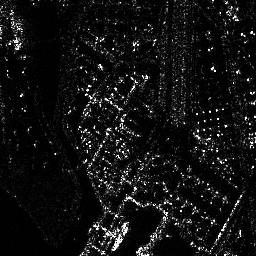ship: (111, 220, 131, 253)
